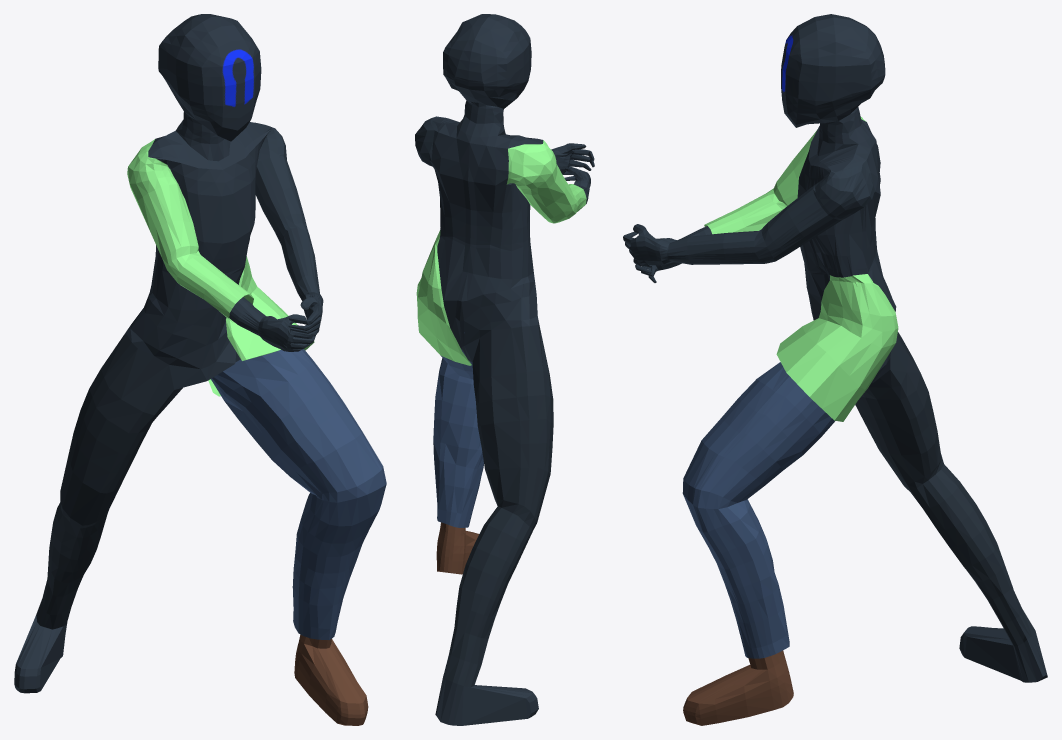
The model's file is Mar_WL_000009.obj.
3 renders of one model, left to right at view 1: azimuth 30°, elevation 25°; view 2: azimuth 150°, elevation 25°; view 3: azimuth 270°, elevation 25°, orthographic. The views are drawn at different scales.
Visible parts, largest first — view 1: Cube.000_Cube.001; view 2: Cube.000_Cube.001; view 3: Cube.000_Cube.001.
Part boxes in pixels (x1,y1,x2,y2): Cube.000_Cube.001: (14, 14, 386, 725); Cube.000_Cube.001: (415, 14, 594, 725); Cube.000_Cube.001: (623, 14, 1047, 725).
Bounding box in the file's own units: 1.3 × 3.72 × 2.07.
